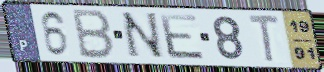6: (39, 9, 71, 57)
8: (211, 14, 246, 62)
B: (71, 7, 116, 61)
E: (157, 12, 208, 62)
N: (119, 11, 168, 61)
T: (246, 12, 282, 65)
